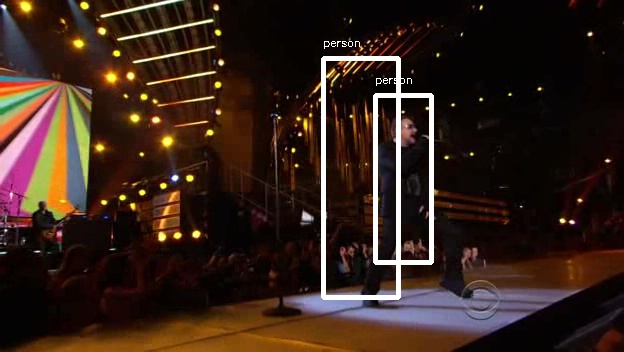person: (376, 122, 445, 247), (373, 122, 442, 247), (379, 122, 448, 247), (376, 119, 445, 244), (376, 125, 445, 250)
target_negative: (174, 78, 395, 303), (281, 245, 590, 347), (345, 33, 411, 350), (75, 309, 501, 351), (540, 242, 619, 342), (8, 287, 147, 294)
